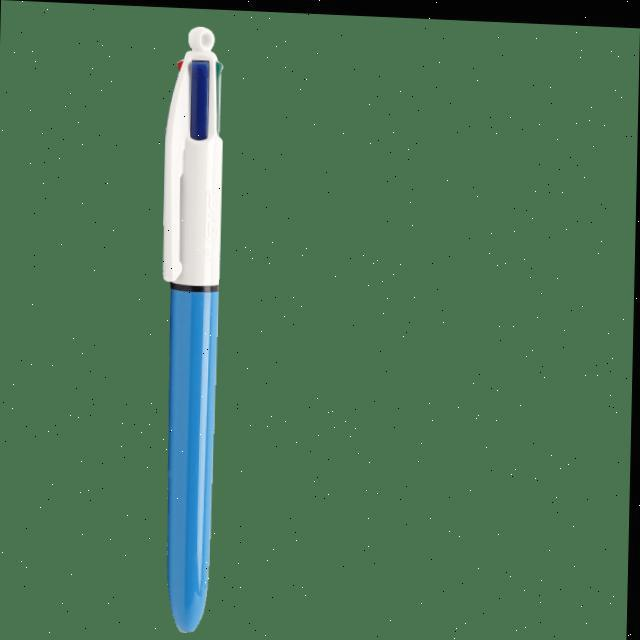pen: (155, 22, 228, 632)
